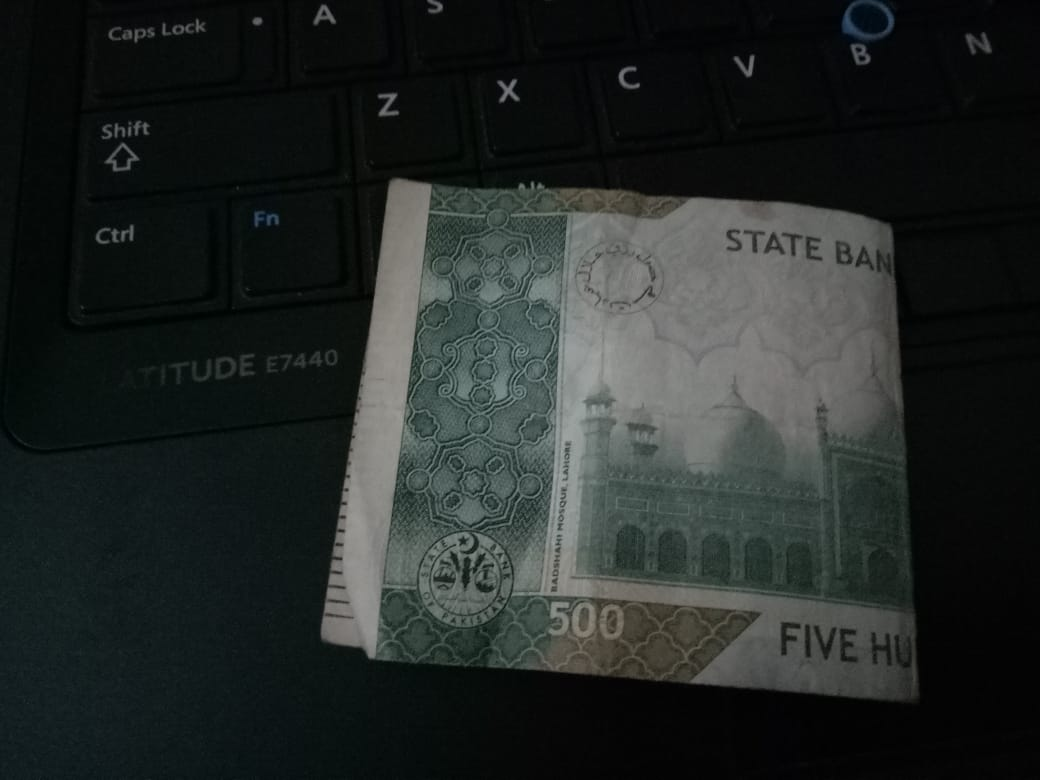500 rupee: (309, 171, 910, 709)
